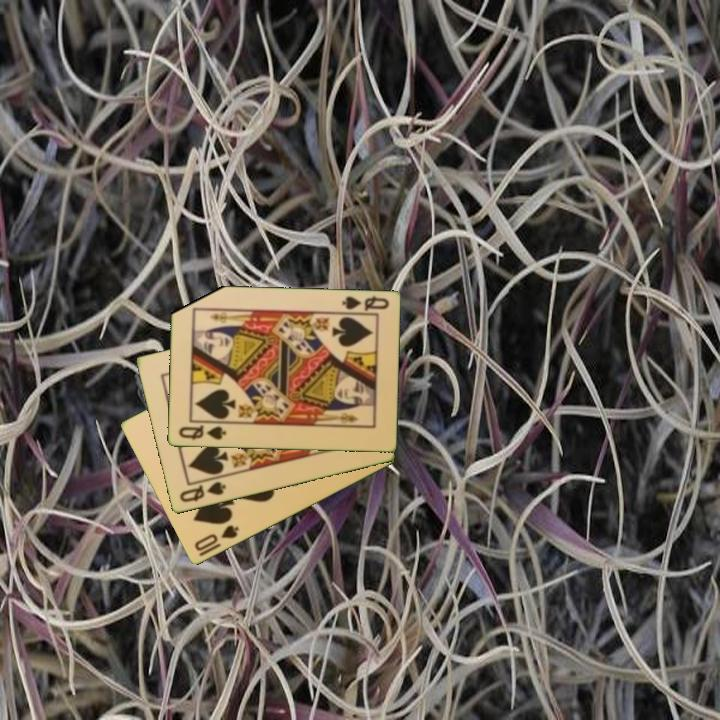10s: (191, 522, 242, 555)
Qs: (176, 478, 229, 505), (337, 292, 391, 317), (175, 422, 228, 443)
